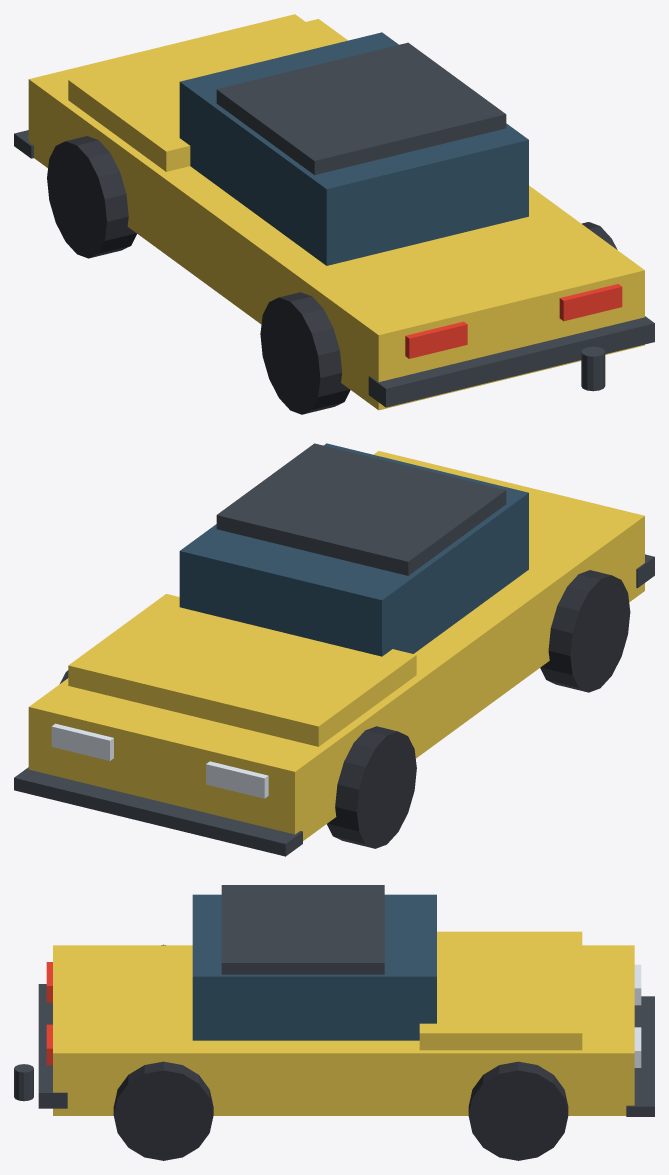
File: street_x.glb
3 renders of one model, top to bottom at view 1: azimuth 30°, elevation 25°; view 2: azimuth 150°, elevation 25°; view 3: azimuth 270°, elevation 25°, orthographic. The views are drawn at different scales.
Visible parts, largest first — view 1: body, cabin, roof, hood, wheel_fl, wheel_rl, rear_bumper, taillight_0.5162, taillight_-0.5162, exhaust; view 2: body, cabin, hood, roof, wheel_rl, wheel_fl, front_splitter, headlight_-0.5162, headlight_0.5162; view 3: body, cabin, hood, roof, wheel_rr, wheel_fr, front_splitter, rear_bumper, exhaust.
Boxes of the visible parts, x1,y1,x2,y2 form: body: [28, 14, 644, 410]; cabin: [179, 32, 528, 265]; roof: [216, 42, 506, 174]; hood: [68, 19, 347, 171]; wheel_fl: [47, 136, 136, 258]; wheel_rl: [260, 292, 350, 414]; rear_bumper: [368, 316, 654, 407]; taillight_0.5162: [559, 284, 622, 321]; taillight_-0.5162: [405, 321, 467, 358]; exhaust: [581, 346, 605, 391]; body: [28, 451, 644, 840]; cabin: [179, 443, 528, 656]; hood: [68, 594, 416, 746]; roof: [216, 443, 506, 575]; wheel_rl: [540, 570, 630, 692]; wheel_fl: [327, 726, 416, 848]; front_splitter: [14, 767, 302, 856]; headlight_-0.5162: [206, 761, 268, 798]; headlight_0.5162: [51, 723, 113, 760]; body: [53, 945, 634, 1115]; cabin: [192, 894, 436, 1040]; hood: [419, 931, 582, 1050]; roof: [221, 885, 384, 974]; wheel_rr: [113, 1061, 213, 1160]; wheel_fr: [468, 1061, 568, 1160]; front_splitter: [626, 996, 654, 1116]; rear_bumper: [38, 984, 67, 1108]; exhaust: [14, 1064, 33, 1101].
Bounding box in the file's own units: 2.07 × 1.34 × 4.46.
